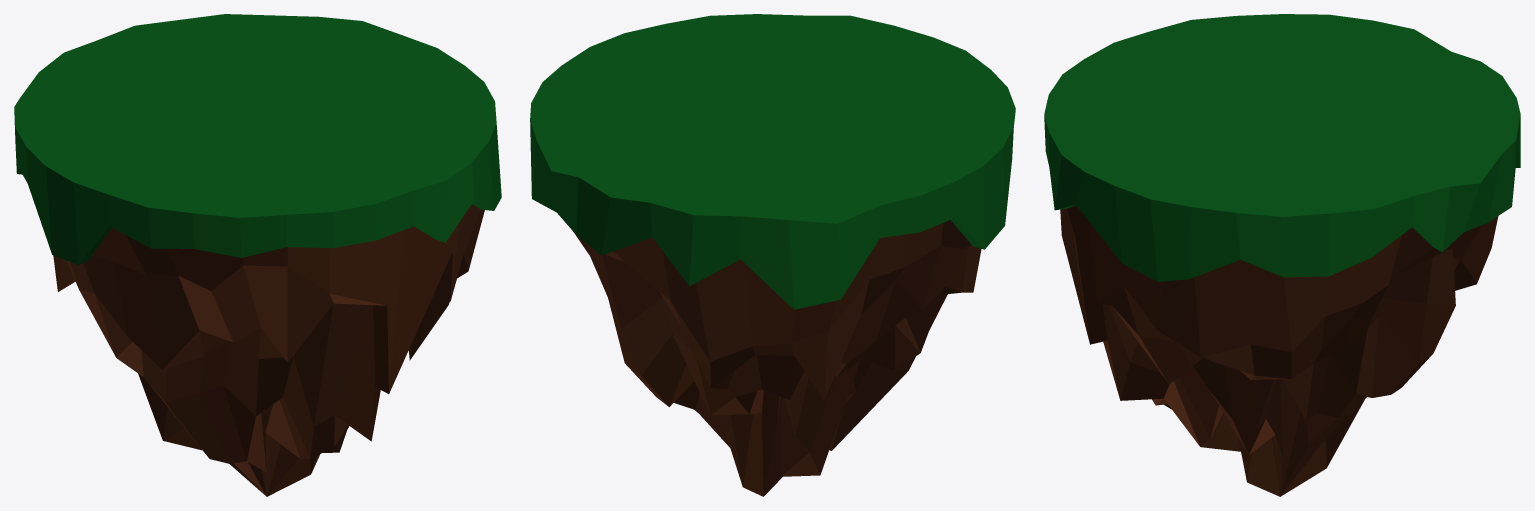
The model's file is Terrain (2).fbx.
3 renders of one model, left to right at view 1: azimuth 30°, elevation 25°; view 2: azimuth 150°, elevation 25°; view 3: azimuth 270°, elevation 25°, orthographic. The views are drawn at different scales.
Visible parts, largest first — view 1: Ground; view 2: Ground; view 3: Ground.
Boxes of the visible parts, x1,y1,x2,y2 form: Ground: (14,14,501,496); Ground: (530,14,1015,496); Ground: (1044,14,1520,496).
Bounding box in the file's own units: 321 × 282 × 321.
